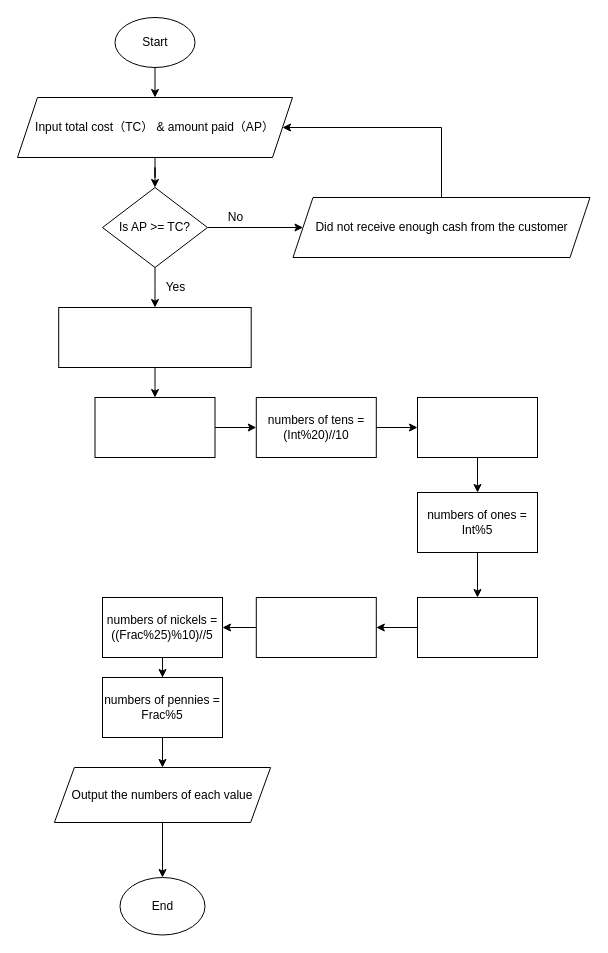
This 608x953 diagram has some shape labels left out. The centre of each missing label's shape, as x and y in pixels:
numbers of dimes = (Frac%25)//10: point 315,627
numbers of fives = (Int%10)//5: point 477,427
numbers of quarters = Frac//25: point 477,627
numbers of twenties = Int//20: point 154,427
take the integer(Int) and fraction(Frac=fraction*100) part of (AP - TC): point 154,337
